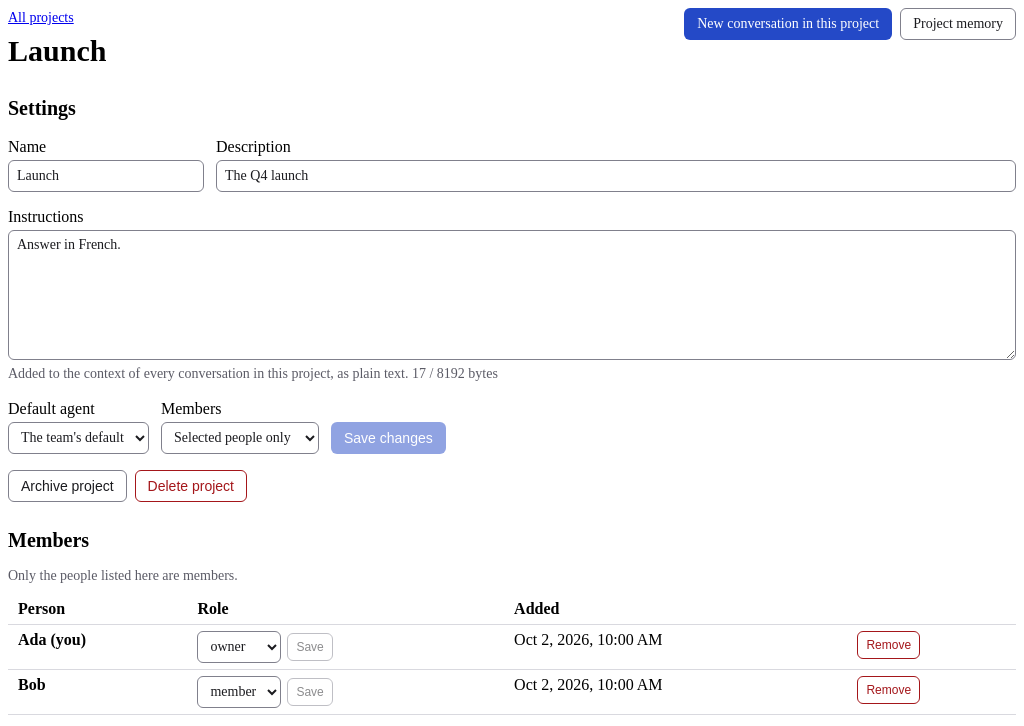
Test case: project detail (KOBE-164, ac-1) › edits settings with only the changed form values
This screenshot has width=1024, height=726.
Replace the text in the field labelled "Name" with "Launch 2" at (106, 176), box [8, 160, 204, 192]
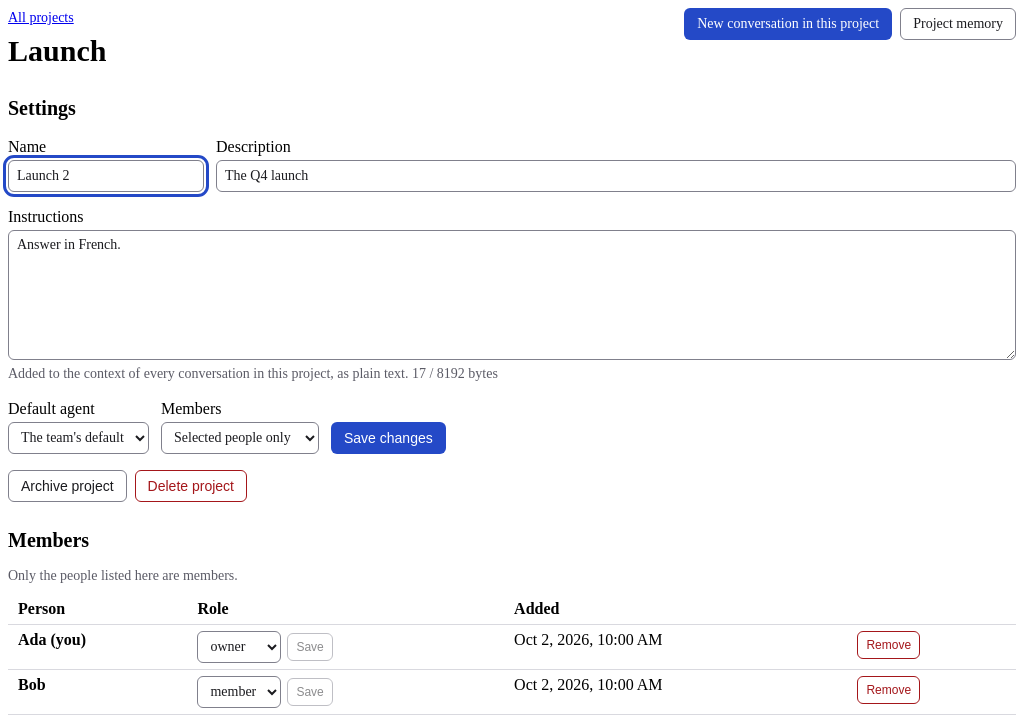
Click the button "Save changes".
click(388, 438)  # box [331, 422, 446, 454]
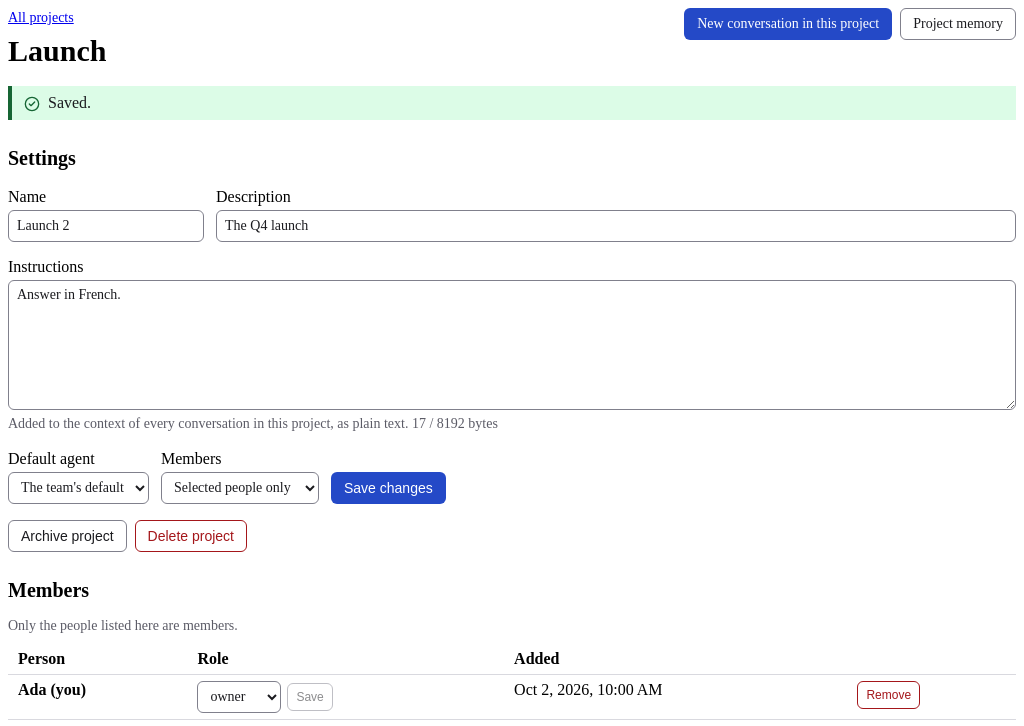
Now the text "Saved." is shown, box [48, 94, 91, 110]
